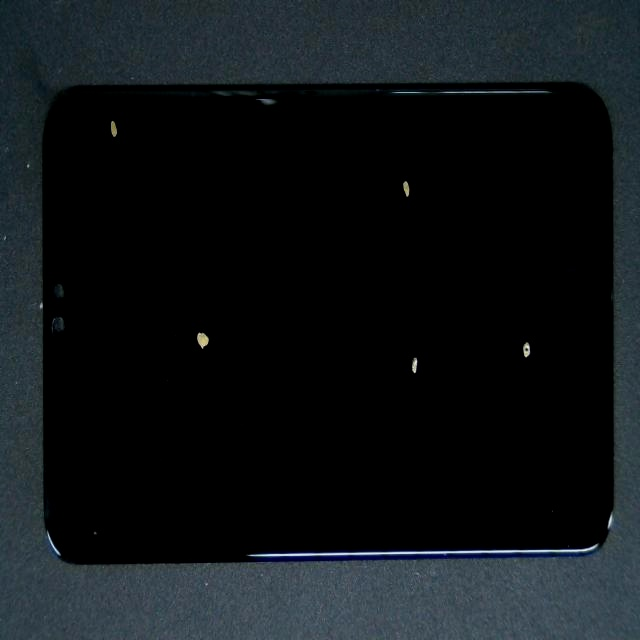stain: (207, 241, 640, 597), (278, 200, 640, 520), (222, 99, 616, 257), (119, 144, 301, 464)
